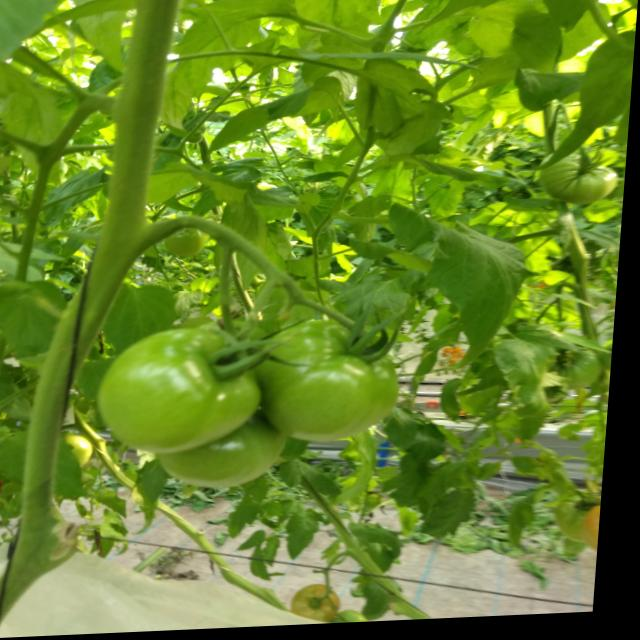yesil: (101, 268, 420, 518)
